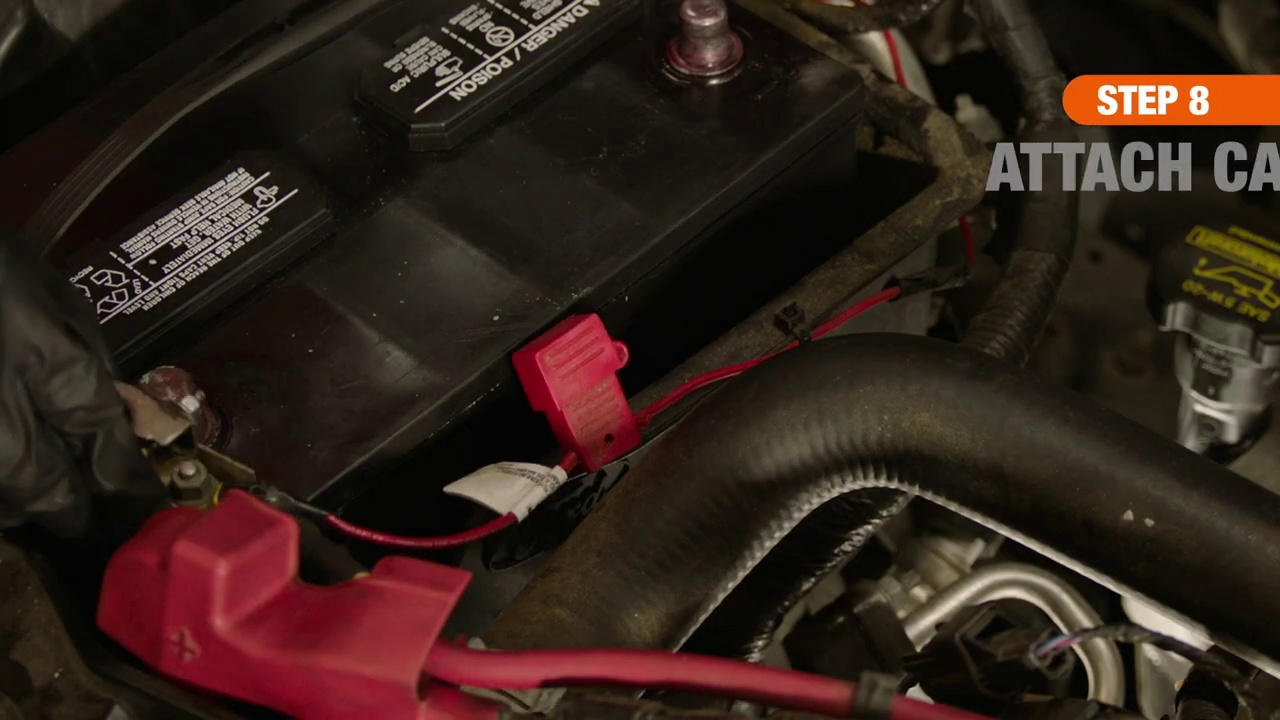battery: (23, 3, 875, 541)
neg_disconnected: (632, 9, 796, 103)
pos_touched: (3, 265, 387, 672)
